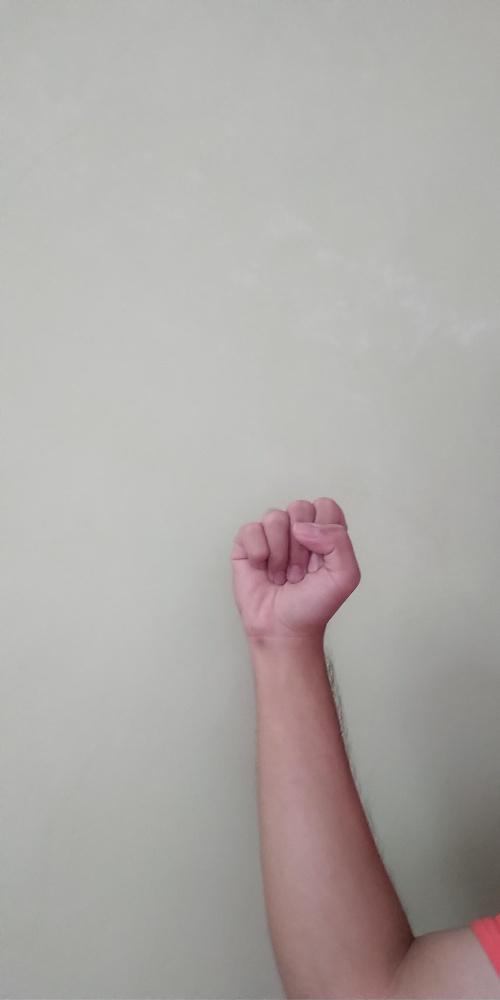s: (228, 495, 363, 636)
